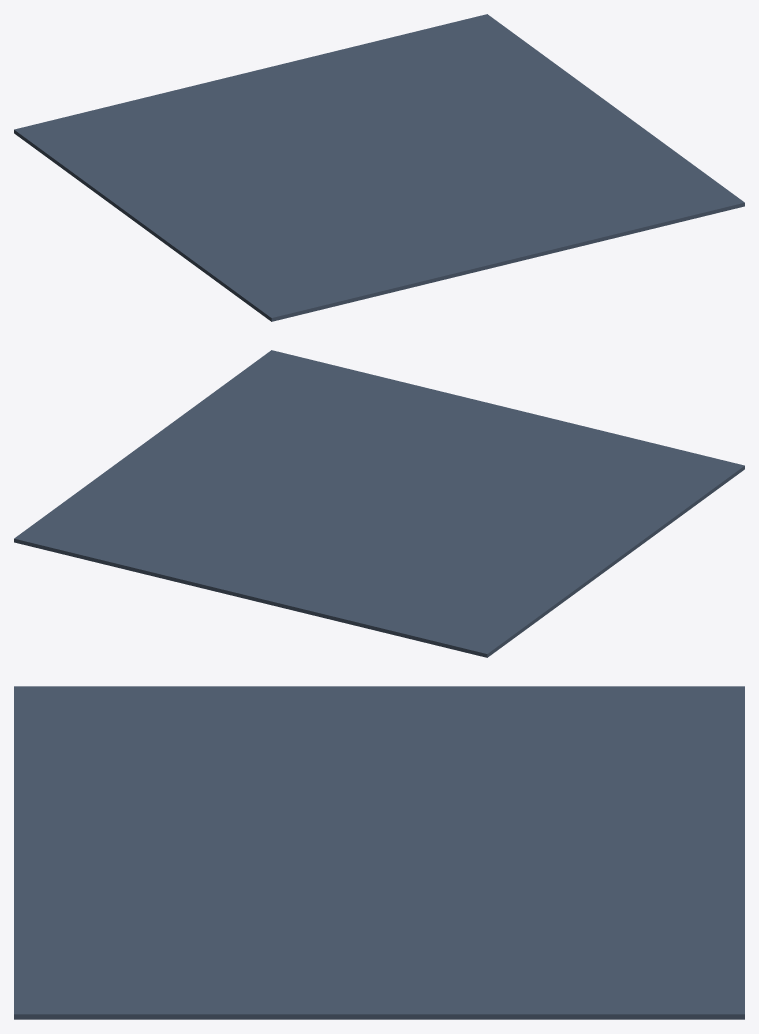
The model's file is floor_001_f_d5e9055141.obj.
The picture shows the model from 3 angles, top to bottom: view 1: azimuth 30°, elevation 25°; view 2: azimuth 150°, elevation 25°; view 3: azimuth 270°, elevation 25°; orthographic projection. The views are drawn at different scales.
Visible parts, largest first — view 1: Floor_001_f_d5e9055141; view 2: Floor_001_f_d5e9055141; view 3: Floor_001_f_d5e9055141.
Boxes of the visible parts, x1,y1,x2,y2 form: Floor_001_f_d5e9055141: (14,14,744,321); Floor_001_f_d5e9055141: (14,350,744,657); Floor_001_f_d5e9055141: (14,686,744,1019).
Bounding box in the file's own units: 26.1 × 0.2 × 24.6.
